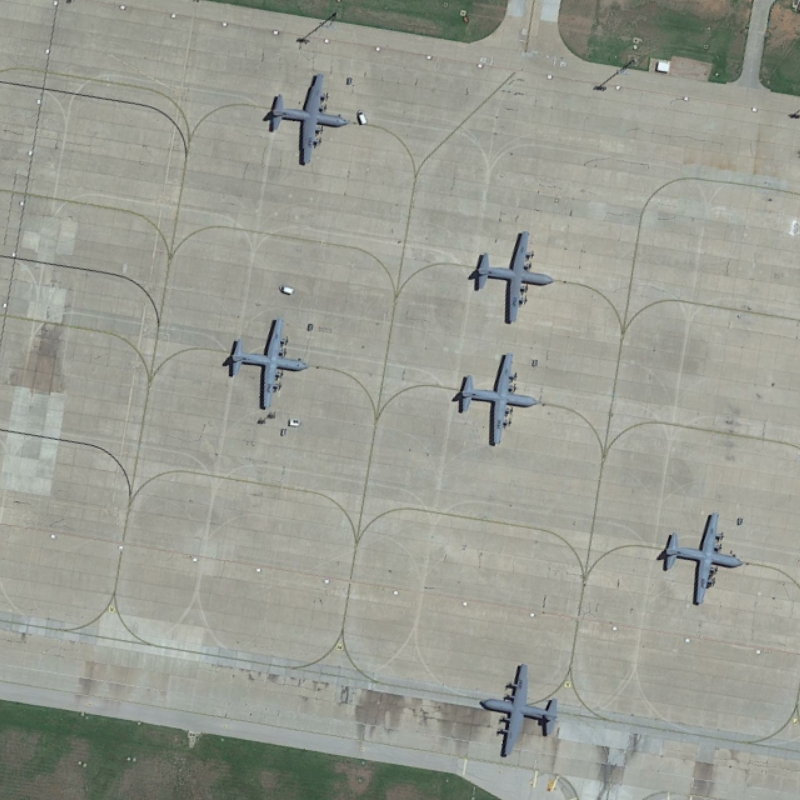A2: (465, 222, 564, 335), (219, 309, 321, 417), (257, 62, 357, 172), (473, 656, 572, 765), (653, 501, 749, 612), (440, 350, 544, 451)
